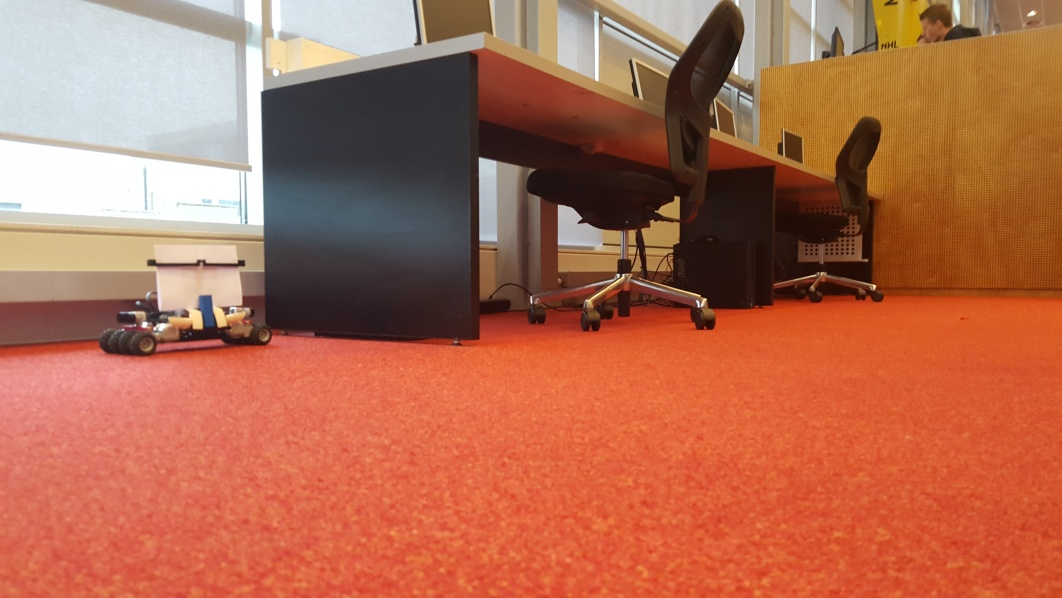car: (98, 241, 272, 354)
